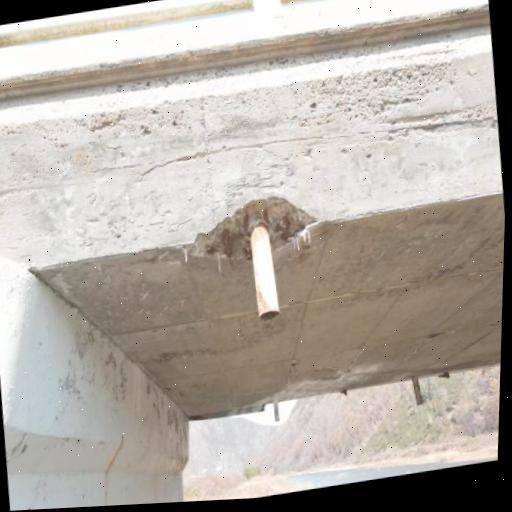exposed_rebar: (222, 228, 232, 257), (282, 214, 289, 241), (243, 213, 249, 236), (263, 208, 269, 224), (274, 225, 282, 231)
spalling: (192, 198, 316, 259)
